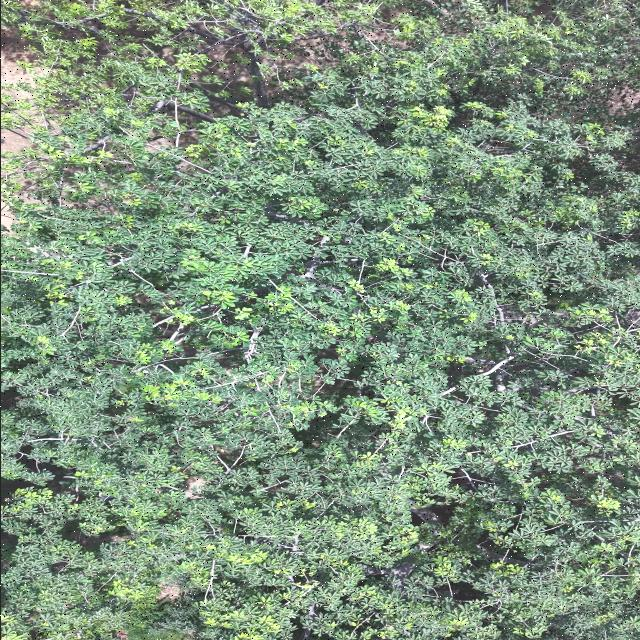DRY_AREA: (207, 38, 336, 88), (1, 27, 36, 85), (1, 28, 33, 83)
VEGETATION_TREE: (1, 0, 639, 639)
